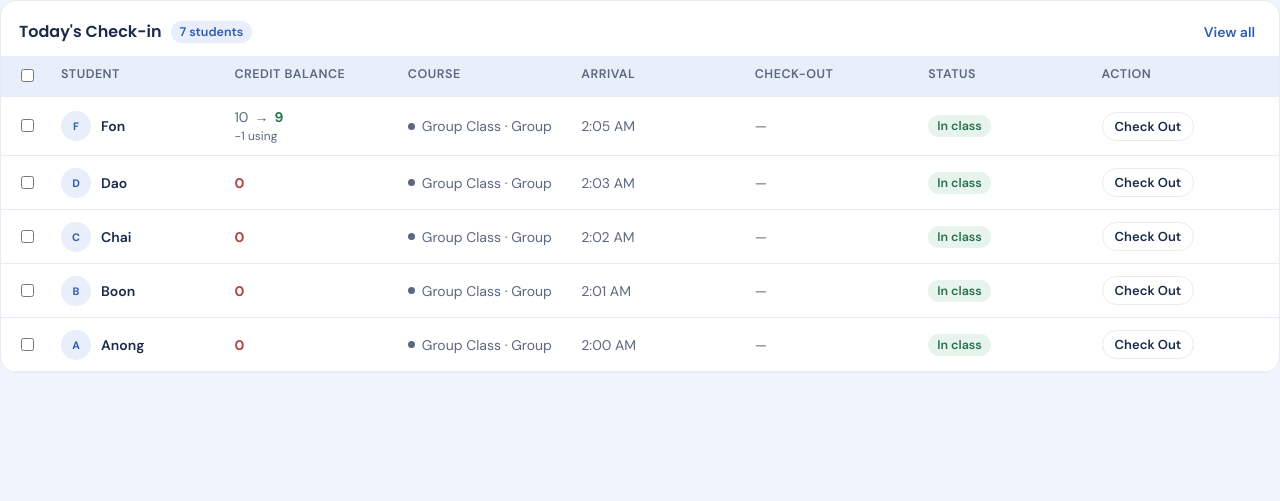
Scenario: the credit balance › reads '10 → 9' over '−1 using' in class, and '−1 used' once out
Expected: the text "Fon" is shown, [101,117,125,135]
Expected: the text "−1 using" is shown, [234,128,283,144]
Click the button "View all".
click(1229, 32)  # box [1198,22,1261,42]
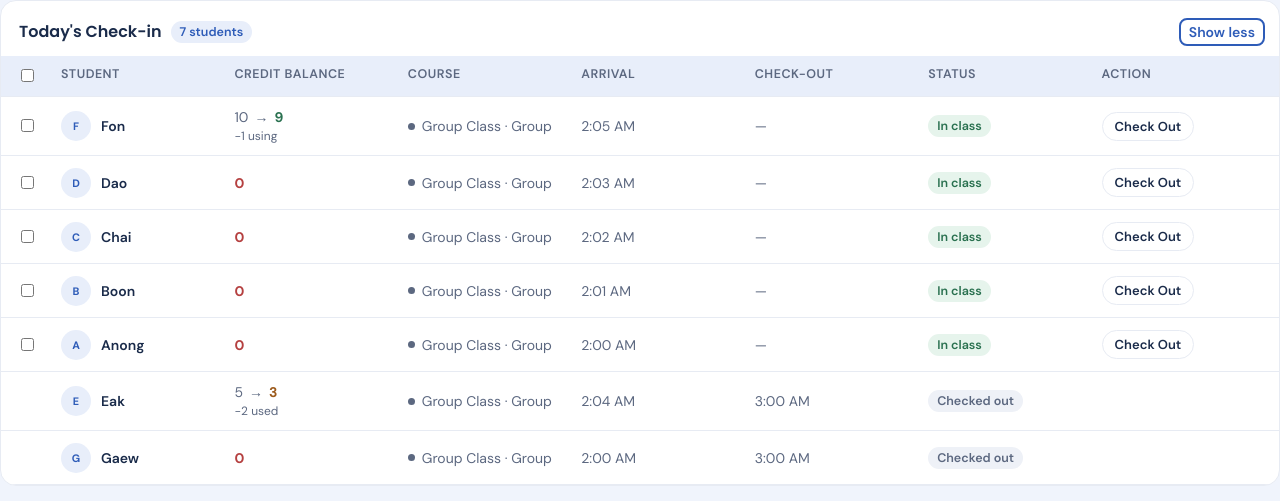
Result: the text "−2 used" is shown at [234,403,278,419]
